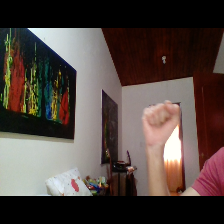9D: (136, 99, 186, 150)
